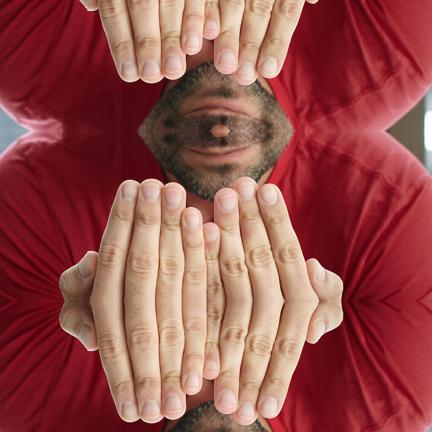Nail: (142, 182, 161, 201), (142, 59, 161, 78), (142, 400, 161, 419), (164, 188, 182, 208), (164, 52, 182, 72), (164, 393, 182, 413), (261, 185, 278, 205), (261, 55, 278, 75), (122, 182, 139, 201), (122, 59, 139, 78), (122, 401, 139, 420), (261, 397, 278, 416), (236, 404, 255, 421), (78, 253, 91, 277), (78, 324, 91, 348), (219, 193, 236, 211), (219, 49, 236, 67), (219, 390, 236, 408), (236, 181, 255, 197), (236, 63, 255, 79), (185, 211, 199, 227), (185, 33, 199, 49), (185, 374, 199, 390), (204, 359, 218, 373), (316, 260, 325, 281), (316, 321, 325, 342), (204, 229, 218, 242), (204, 18, 218, 31), (81, 0, 89, 7)
